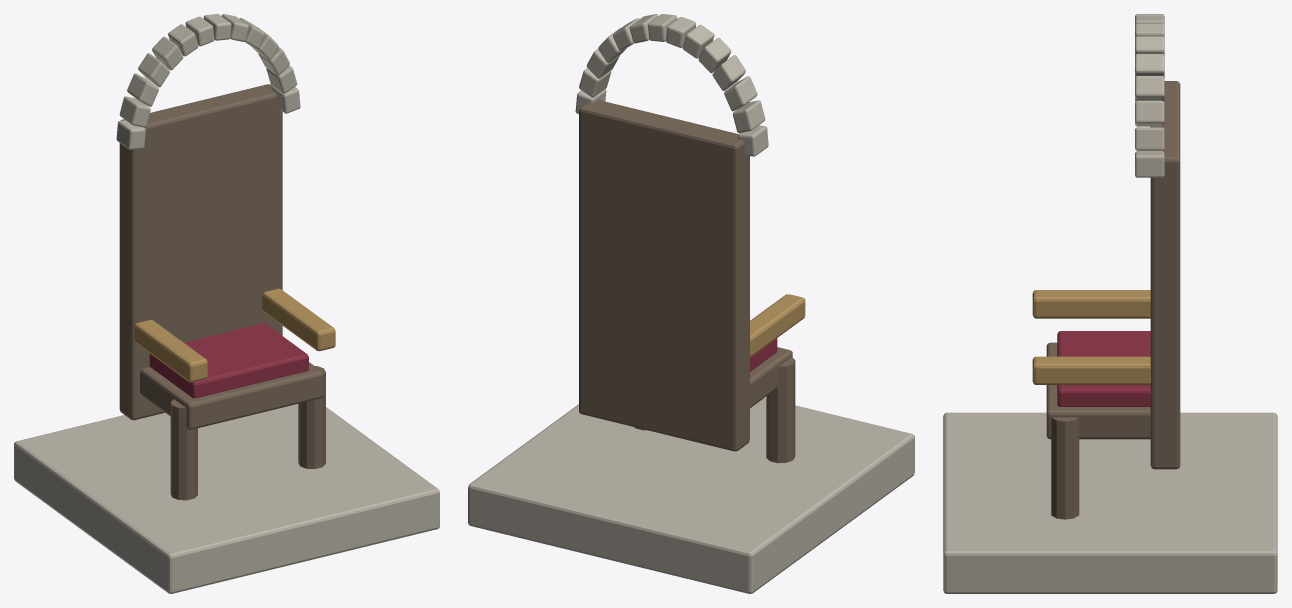
Rendered from castle_throne.glb.
3 views of the same model, side by side, from view 1: azimuth 30°, elevation 25°; view 2: azimuth 150°, elevation 25°; view 3: azimuth 270°, elevation 25° (orthographic). The views are drawn at different scales.
Parts seen in each view (by area): view 1: Body.094; view 2: Body.094; view 3: Body.094.
Boxes of the visible parts, box(x1,y1,x2,y2) form: Body.094: box(14, 14, 439, 593); Body.094: box(468, 14, 914, 593); Body.094: box(943, 14, 1277, 593).
Size of the model in its own units: 1.7 by 2.82 by 1.7.
